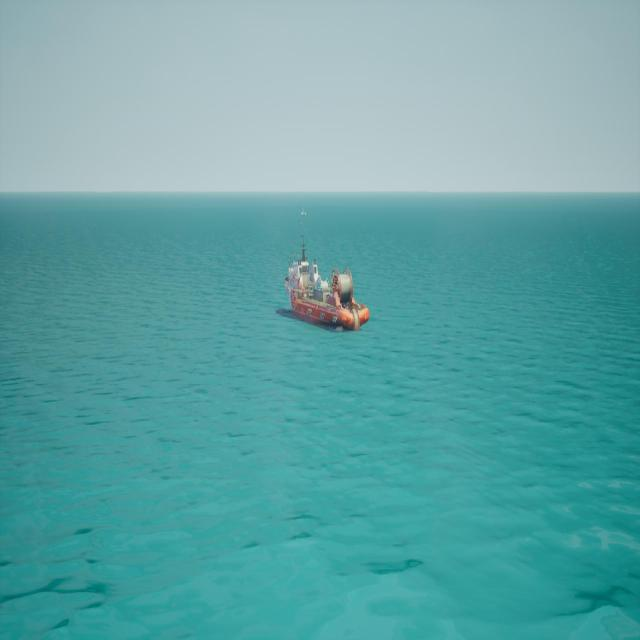tug boat: (281, 212, 371, 336)
